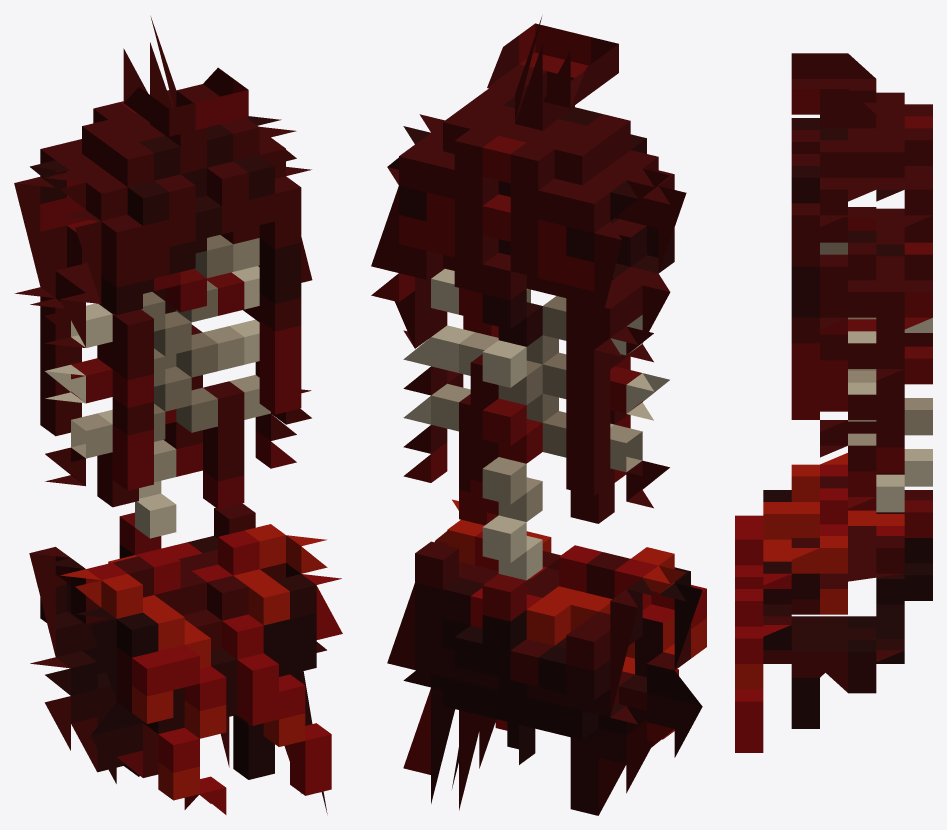
File: zed6_torso.glb
The picture shows the model from 3 angles, left to right: view 1: azimuth 30°, elevation 25°; view 2: azimuth 150°, elevation 25°; view 3: azimuth 270°, elevation 25°; orthographic projection. The views are drawn at different scales.
Visible parts, largest first — view 1: zed6_torso; view 2: zed6_torso; view 3: zed6_torso.
Boxes of the visible parts, box(x1,y1,x2,y2) form: zed6_torso: box(14, 16, 342, 814); zed6_torso: box(371, 17, 706, 815); zed6_torso: box(735, 53, 932, 752).
Bounding box in the file's own units: 0.2812 × 0.9062 × 0.2188.
Materials: 1 (1 with a texture image).
